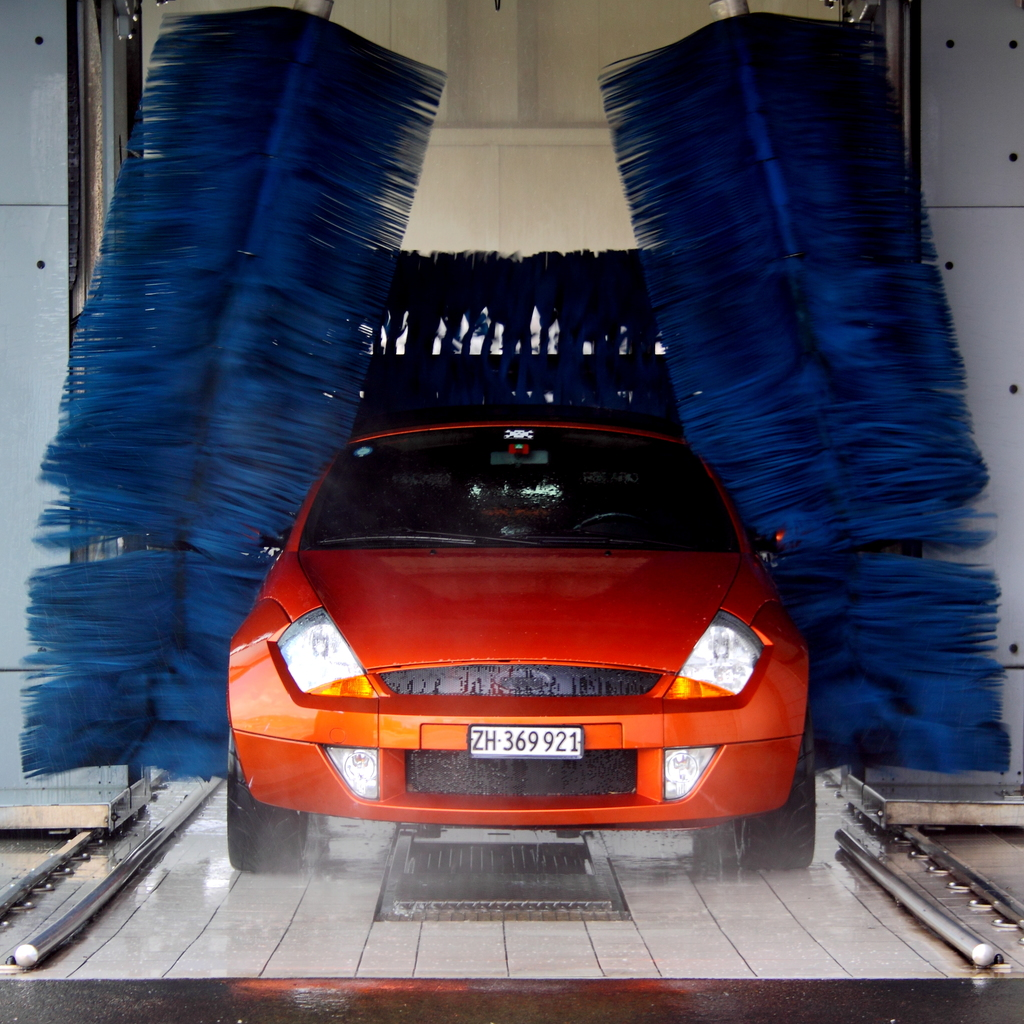Car: (223, 419, 819, 874)
